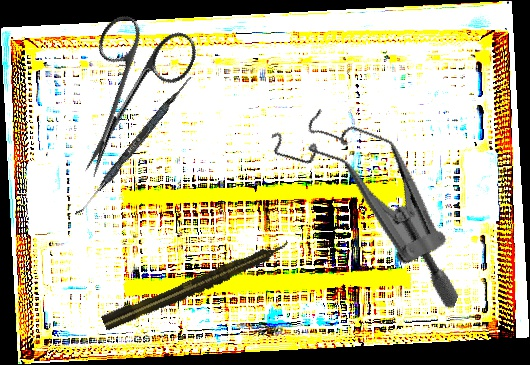Handpiece: (100, 236, 293, 333)
Iris Scissors: (47, 3, 203, 196)
Spatula Surgical: (74, 72, 194, 220)
Speculum: (236, 94, 505, 311)
